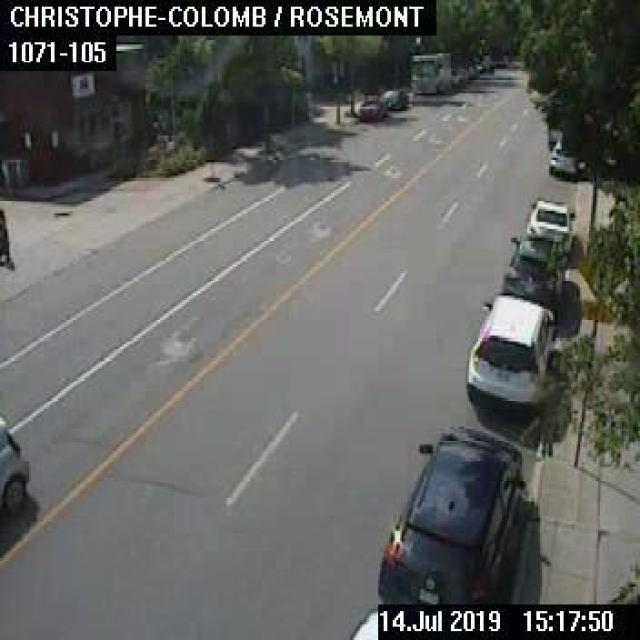vehicle: (375, 422, 524, 602), (466, 295, 553, 408), (500, 234, 568, 298), (0, 416, 31, 518), (525, 197, 574, 249), (409, 51, 449, 94), (548, 139, 579, 178), (346, 606, 374, 638), (356, 94, 384, 120), (382, 88, 407, 108)
